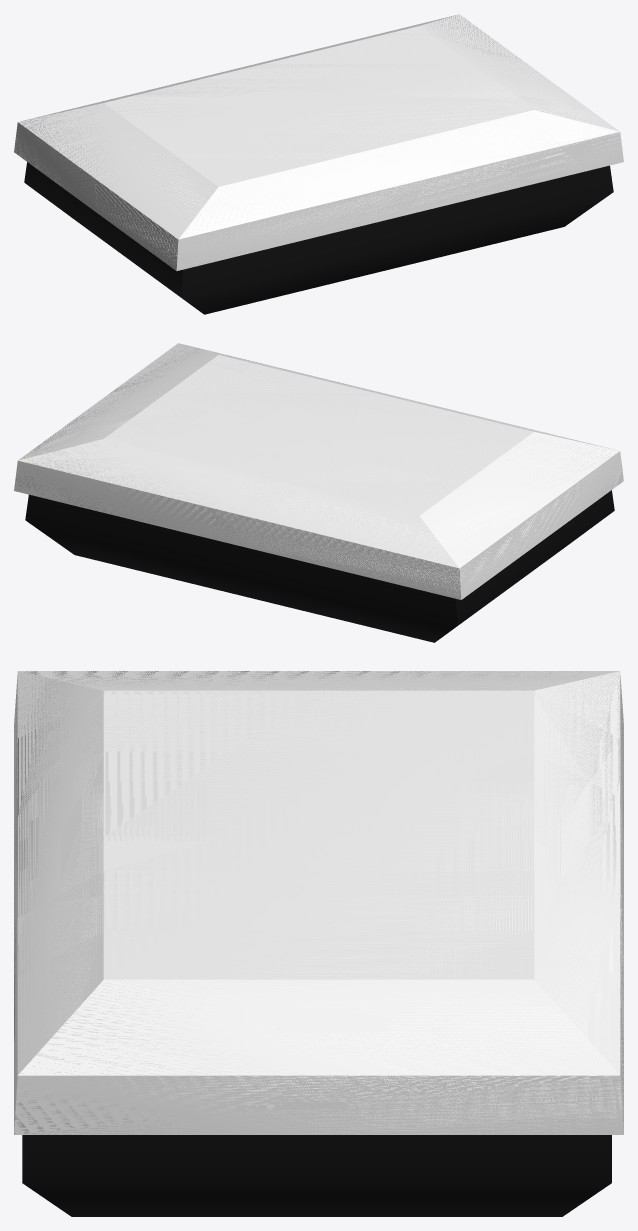
Rendered from Plastic_Box_B.FBX.
The picture shows the model from 3 angles, top to bottom: view 1: azimuth 30°, elevation 25°; view 2: azimuth 150°, elevation 25°; view 3: azimuth 270°, elevation 25°; orthographic projection. The views are drawn at different scales.
Visible parts, largest first — view 1: Plastic_LidB, Plastic_Box_B; view 2: Plastic_LidB, Plastic_Box_B; view 3: Plastic_LidB, Plastic_Box_B.
Part boxes in pixels (x1=…): Plastic_LidB: x1=14, y1=14, x2=623, y2=271; Plastic_Box_B: x1=24, y1=162, x2=613, y2=314; Plastic_LidB: x1=14, y1=343, x2=623, y2=599; Plastic_Box_B: x1=25, y1=490, x2=614, y2=642; Plastic_LidB: x1=14, y1=671, x2=623, y2=1134; Plastic_Box_B: x1=22, y1=1135, x2=611, y2=1216.
Bounding box in the file's own units: 115 × 28.35 × 72.08.
